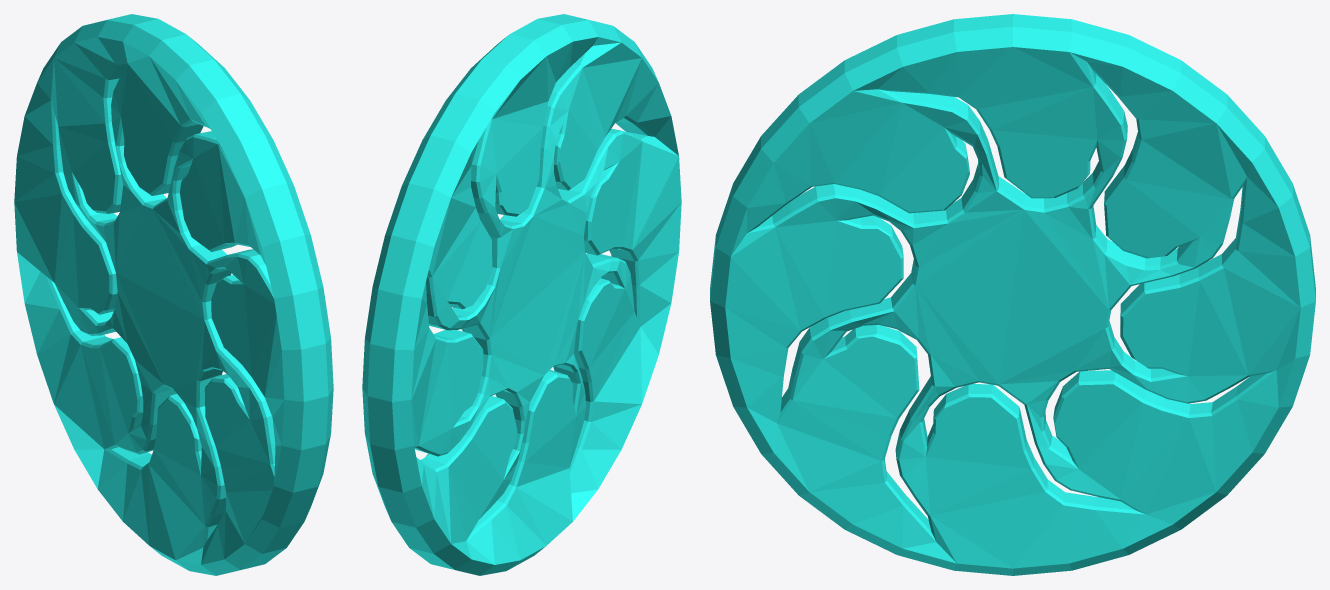
File: bigcoin.fbx
3 views of the same model, side by side, from view 1: azimuth 30°, elevation 25°; view 2: azimuth 150°, elevation 25°; view 3: azimuth 270°, elevation 25° (orthographic). The views are drawn at different scales.
Parts seen in each view (by area): view 1: foi; view 2: foi; view 3: foi.
Boxes of the visible parts, left/top/right/bottom form: foi: left=14, top=14, right=333, bottom=575; foi: left=362, top=14, right=681, bottom=575; foi: left=710, top=14, right=1315, bottom=575.
Size of the model in its own units: 113 by 1134 by 1134.
Materials: 1 (1 with a texture image).
